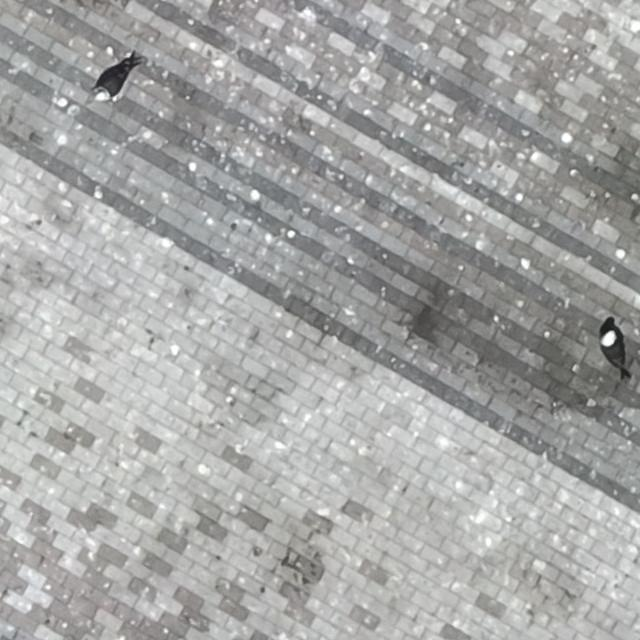umineko: (98, 68, 129, 102), (602, 332, 622, 367)
